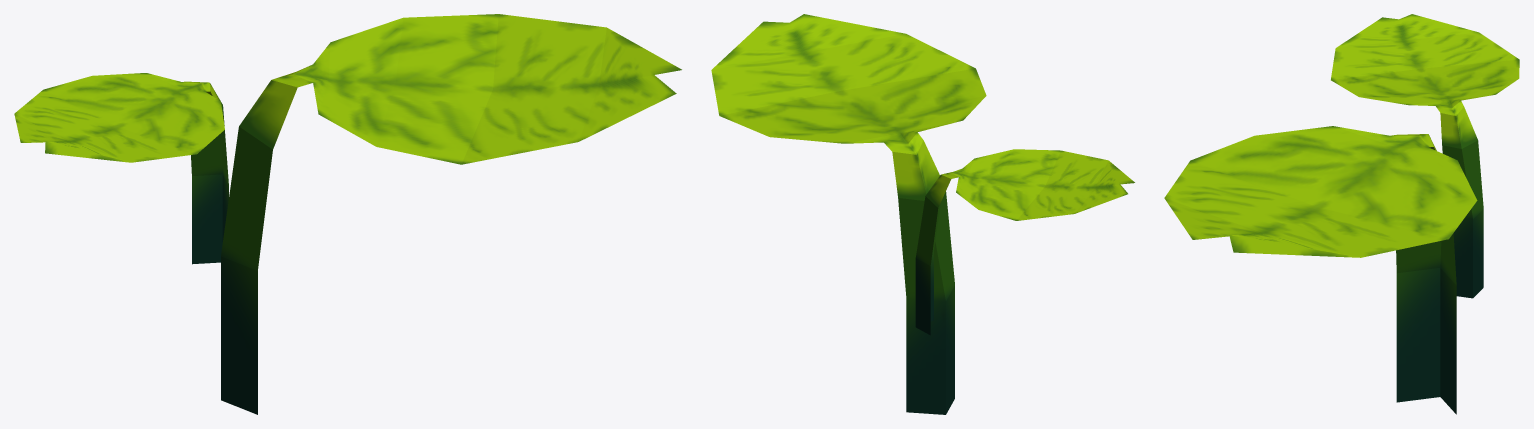
The model's file is lilypad.fbx.
3 renders of one model, left to right at view 1: azimuth 30°, elevation 25°; view 2: azimuth 150°, elevation 25°; view 3: azimuth 270°, elevation 25°, orthographic. The views are drawn at different scales.
Visible parts, largest first — view 1: Leaf.002, Leaf.001; view 2: Leaf.002, Leaf.001; view 3: Leaf.002, Leaf.001.
Part boxes in pixels (bbox=[...]): Leaf.002: bbox=[221, 14, 681, 414]; Leaf.001: bbox=[14, 73, 228, 264]; Leaf.002: bbox=[711, 14, 986, 414]; Leaf.001: bbox=[915, 149, 1134, 335]; Leaf.002: bbox=[1164, 126, 1477, 414]; Leaf.001: bbox=[1331, 14, 1519, 298].
Bounding box in the file's own units: 100 × 57.03 × 61.23.
2 materials, 2 textured.
